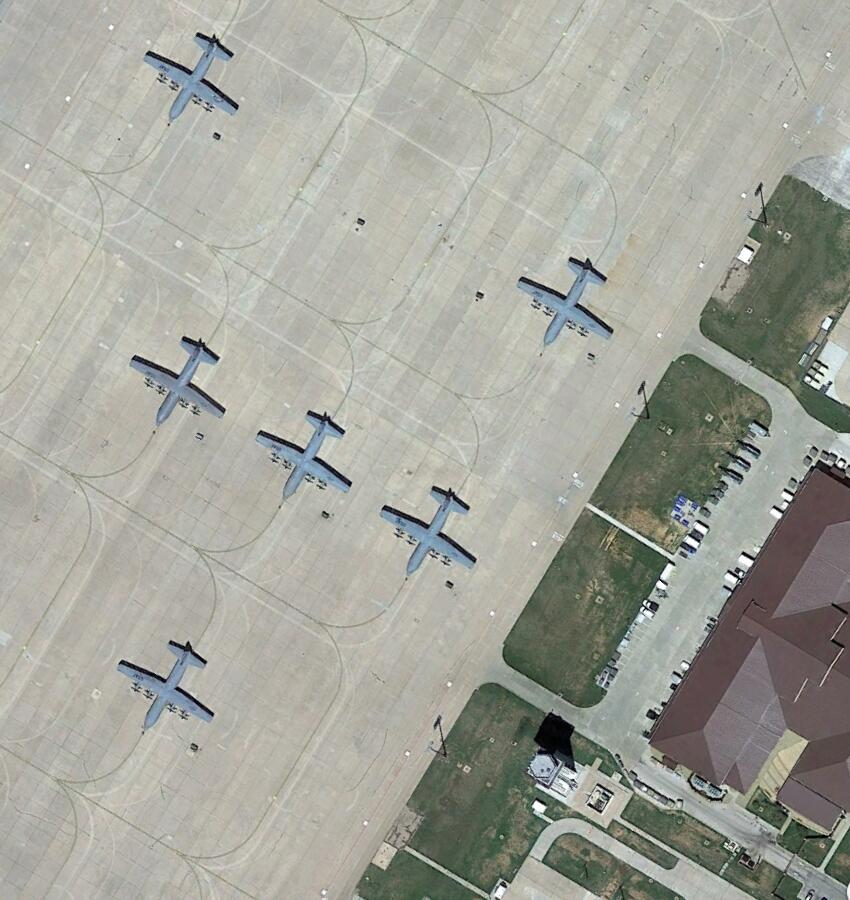A2: (111, 632, 221, 739), (127, 324, 230, 434), (251, 397, 354, 505), (138, 25, 243, 128), (380, 473, 481, 580), (511, 250, 614, 353)
